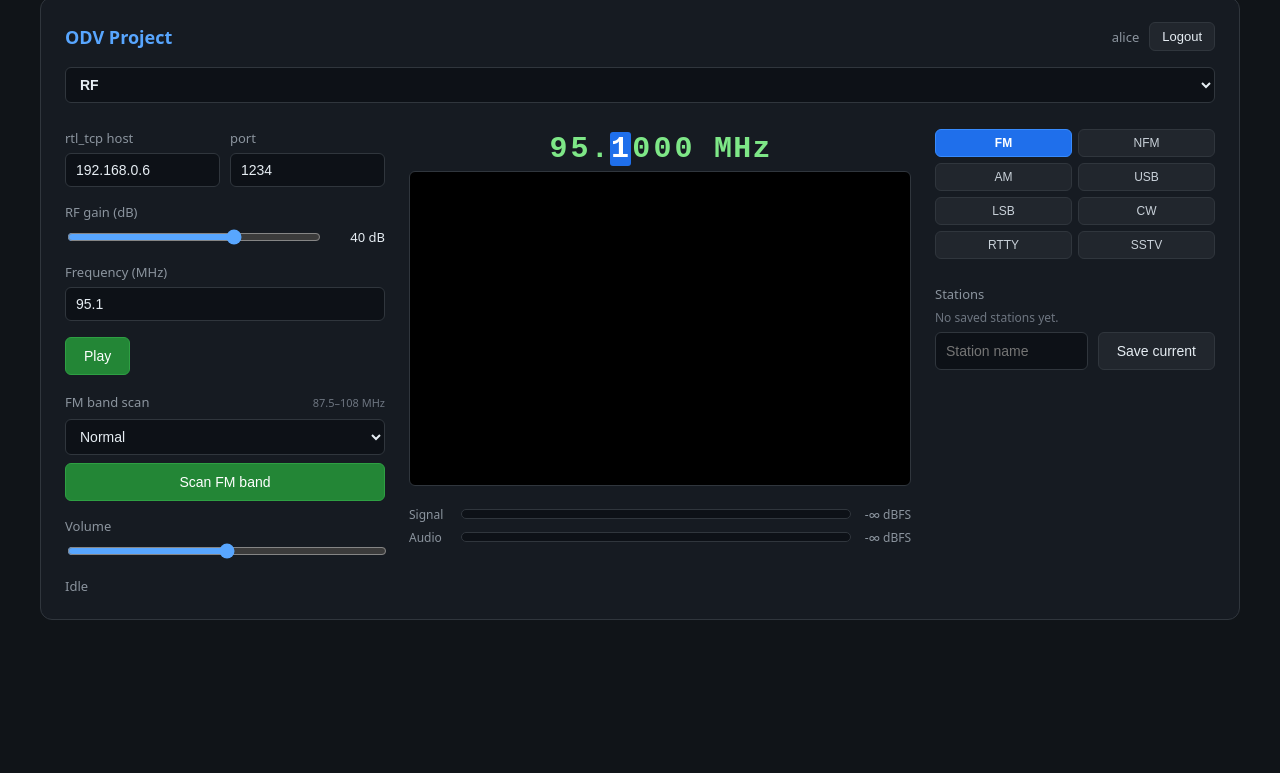
Test case: App › offers an SSTV demodulator with a mode picker and image panel
Expected: the text "Stations" is shown, [935, 285, 984, 303]
Step 1. Click the button "SSTV" → {"x": 1146, "y": 245}, box [1078, 231, 1215, 259]
(page scrolled)
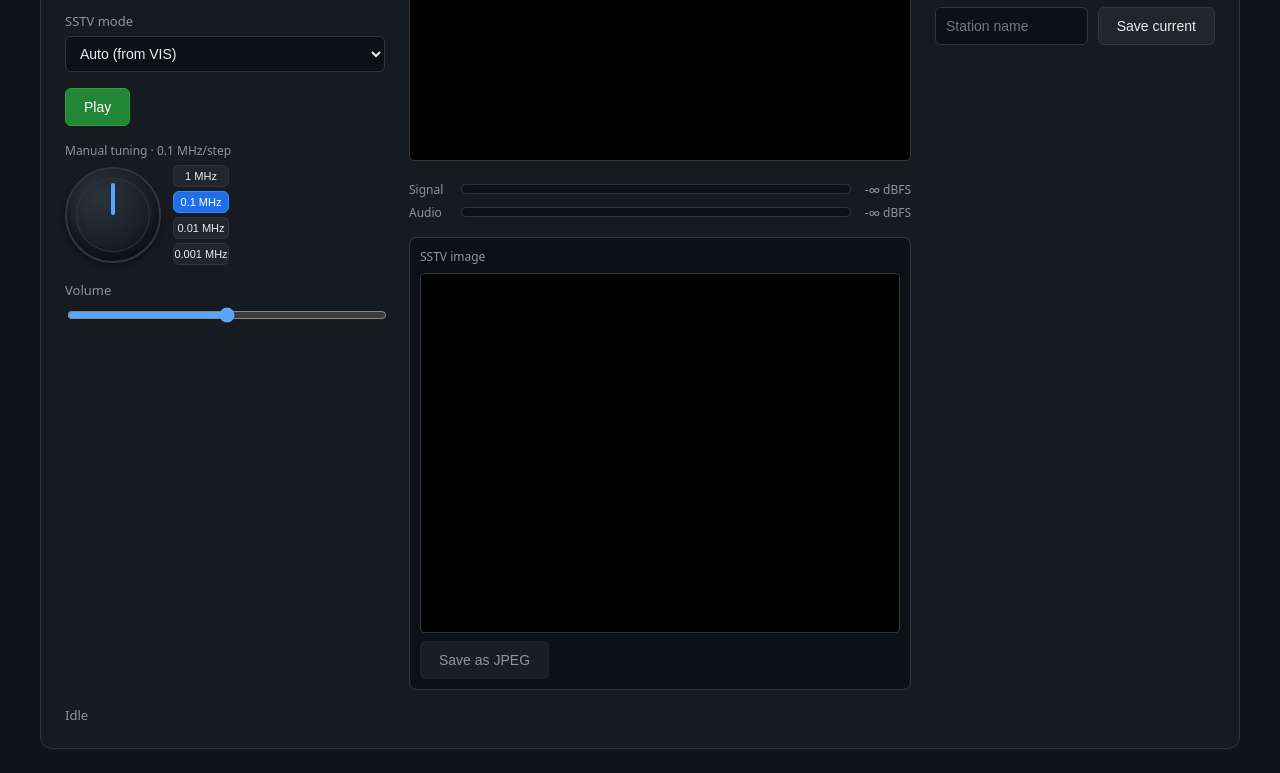
Now the text "SSTV mode" is shown, box [65, 12, 385, 72]
Now the text "SSTV image" is shown, box [420, 248, 485, 264]
Now the button "Save as JPEG" is disabled, box [420, 641, 549, 679]
